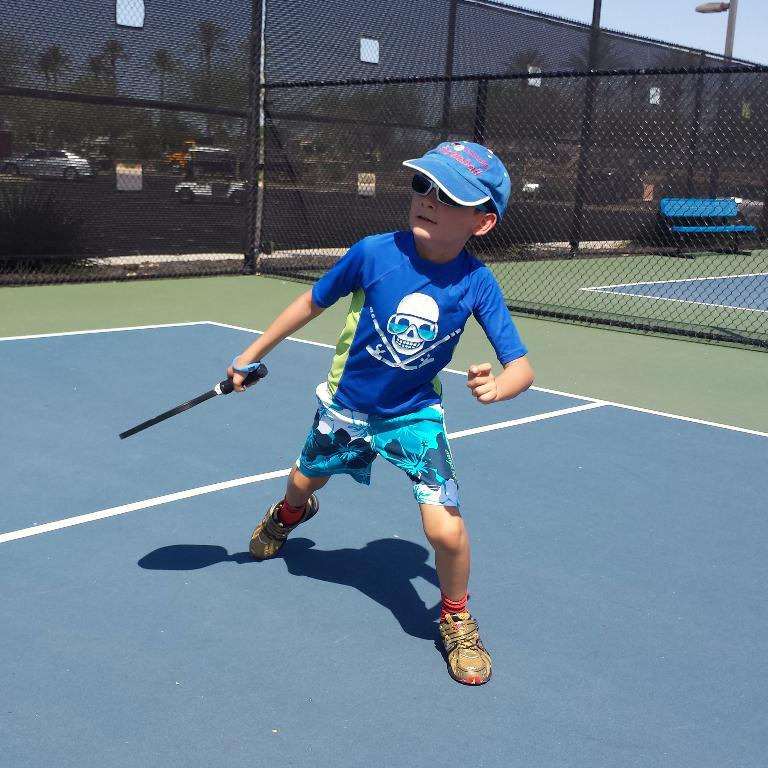Person: (226, 139, 535, 684)
